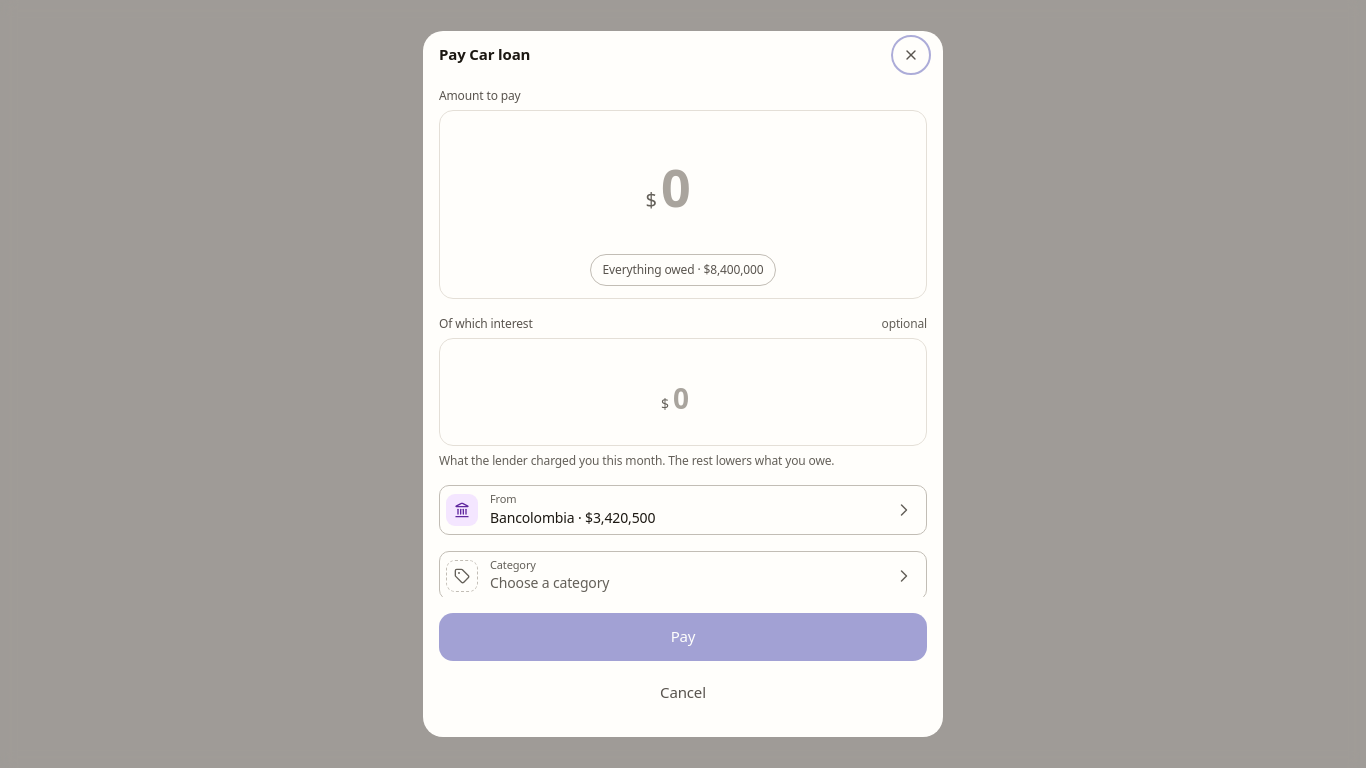
the instalment split (T-94) › refuses an instalment that is all interest, because nothing would lower the loan
Type "420000" into the field labelled "Amount to pay".
click(691, 186); type("420000")  # box [661,151,720,222]
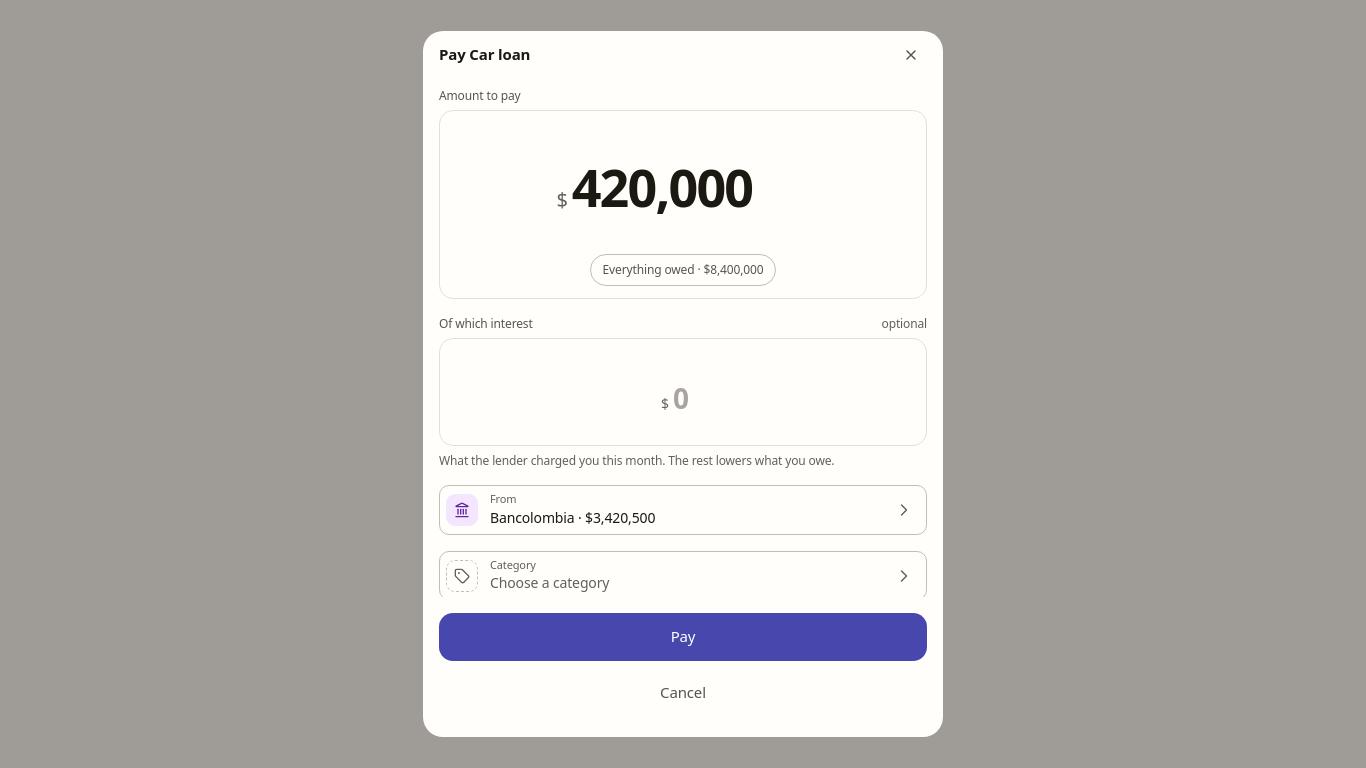
Type "420000" into the field labelled "Of which interest".
click(689, 398); type("420000")  # box [673,379,705,417]
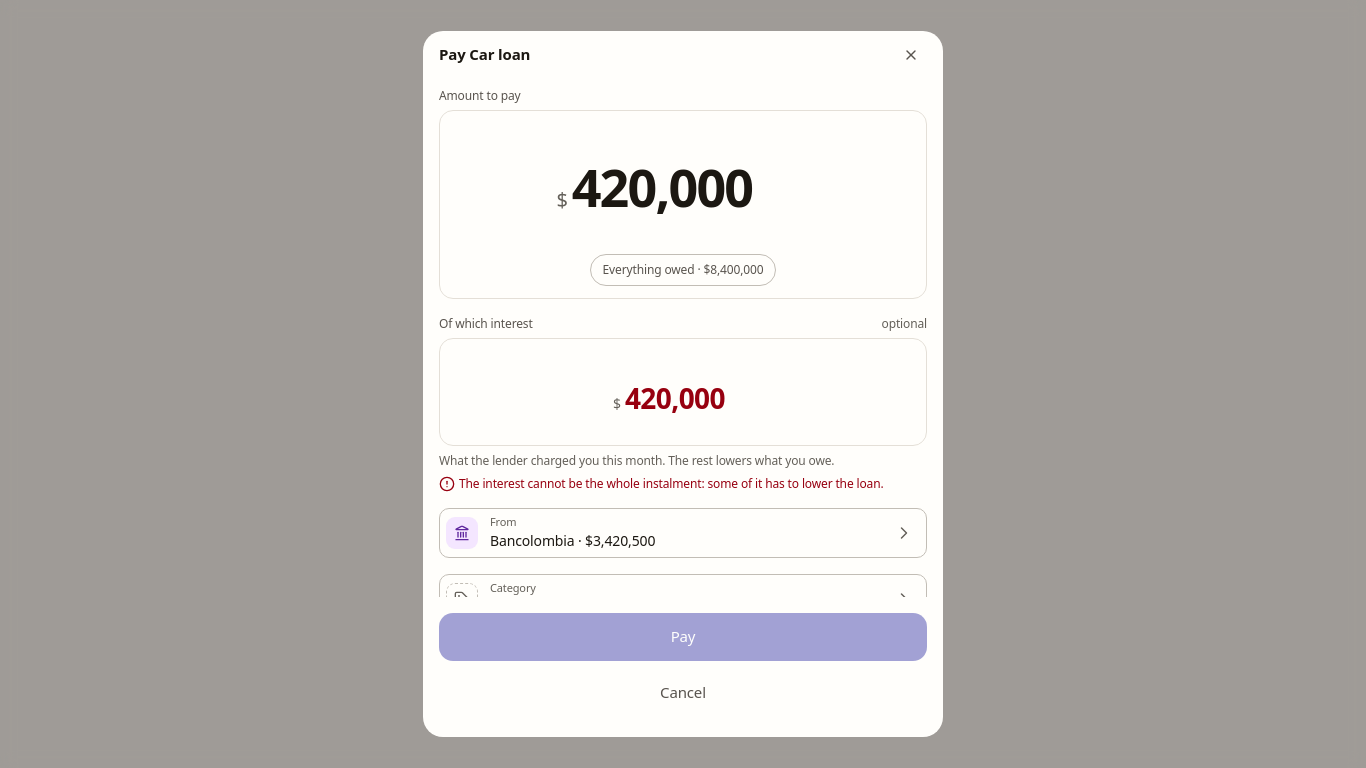
Expected: the text "less owed" is not shown
Now the text "The interest cannot be the whole instalment: some of it has to lower the loan." is shown, box [439,475,927,492]
Now the 1st button named "Pay" is disabled, box [439,613,927,661]
